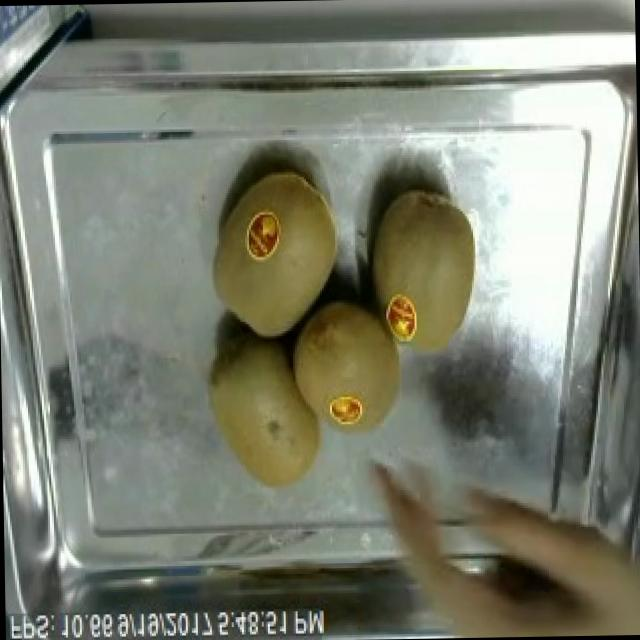Fruit: (202, 161, 348, 347), (356, 178, 488, 366), (200, 340, 333, 498), (282, 291, 412, 437)
